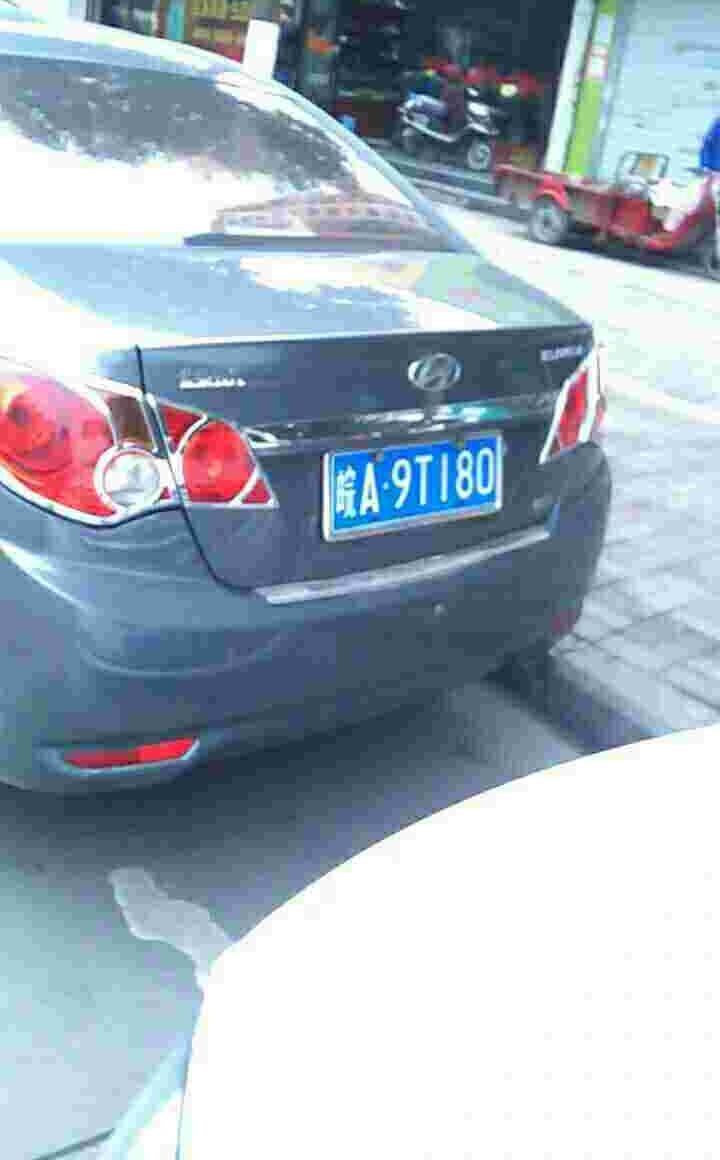plate: (336, 428, 504, 535)
